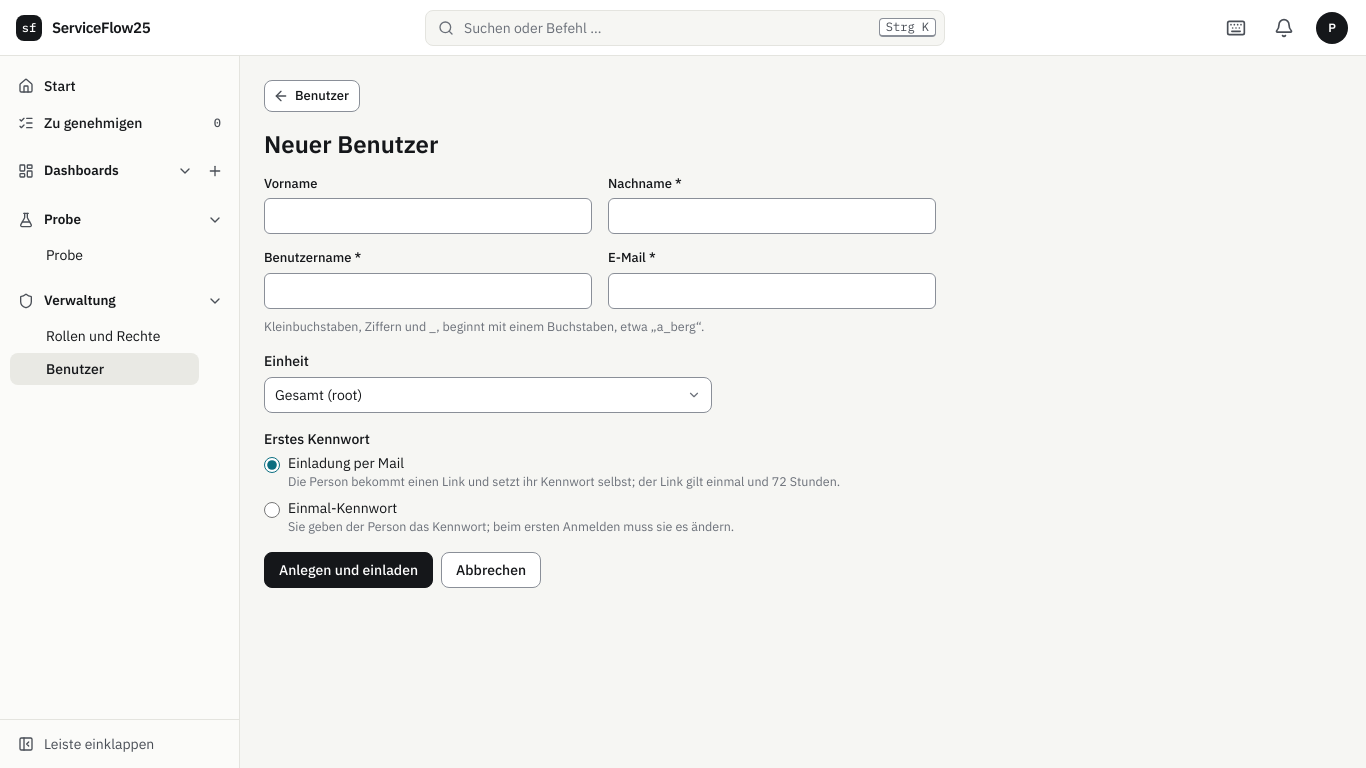
Test: UsersPage › keeps the account when the mail server refuses the invitation and says so
Expected: the heading "Neuer Benutzer" is shown, [264,128,438,160]
Type "Abgewiesen" into the field labelled "Nachname *" at [772, 216], box [608,198,936,234]
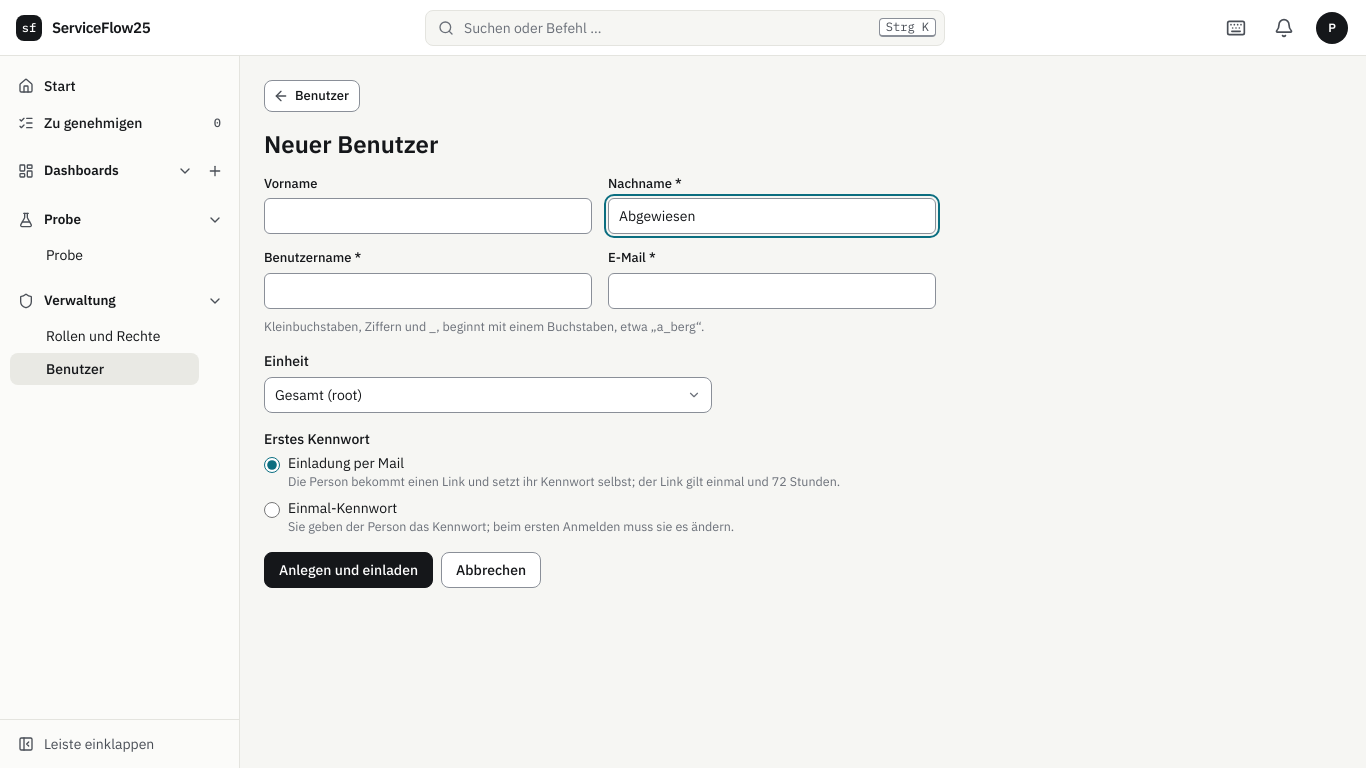
Type "r_mail" into the field labelled "Benutzername *" at [428, 290], box [264,272,592,308]
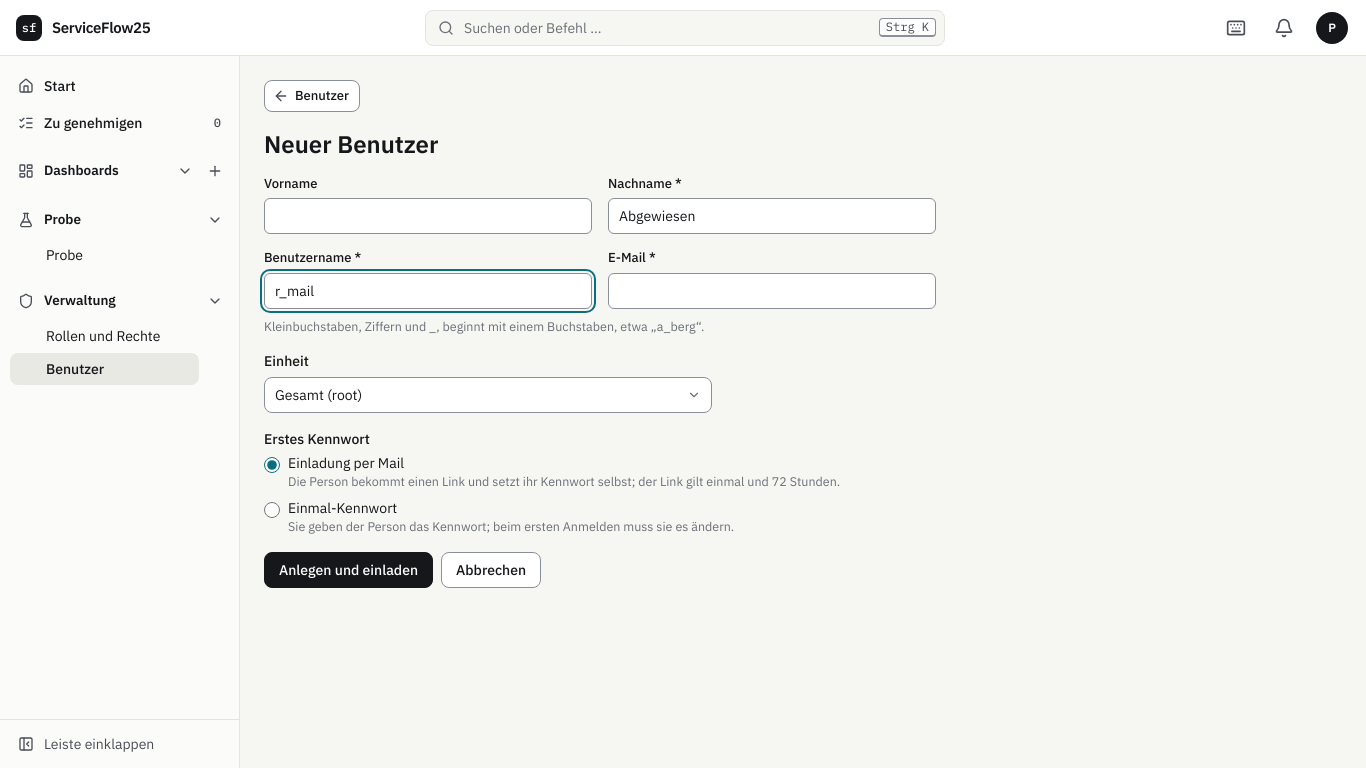
Type "r@example.test" into the field labelled "E-Mail *" at [772, 290], box [608,272,936,308]
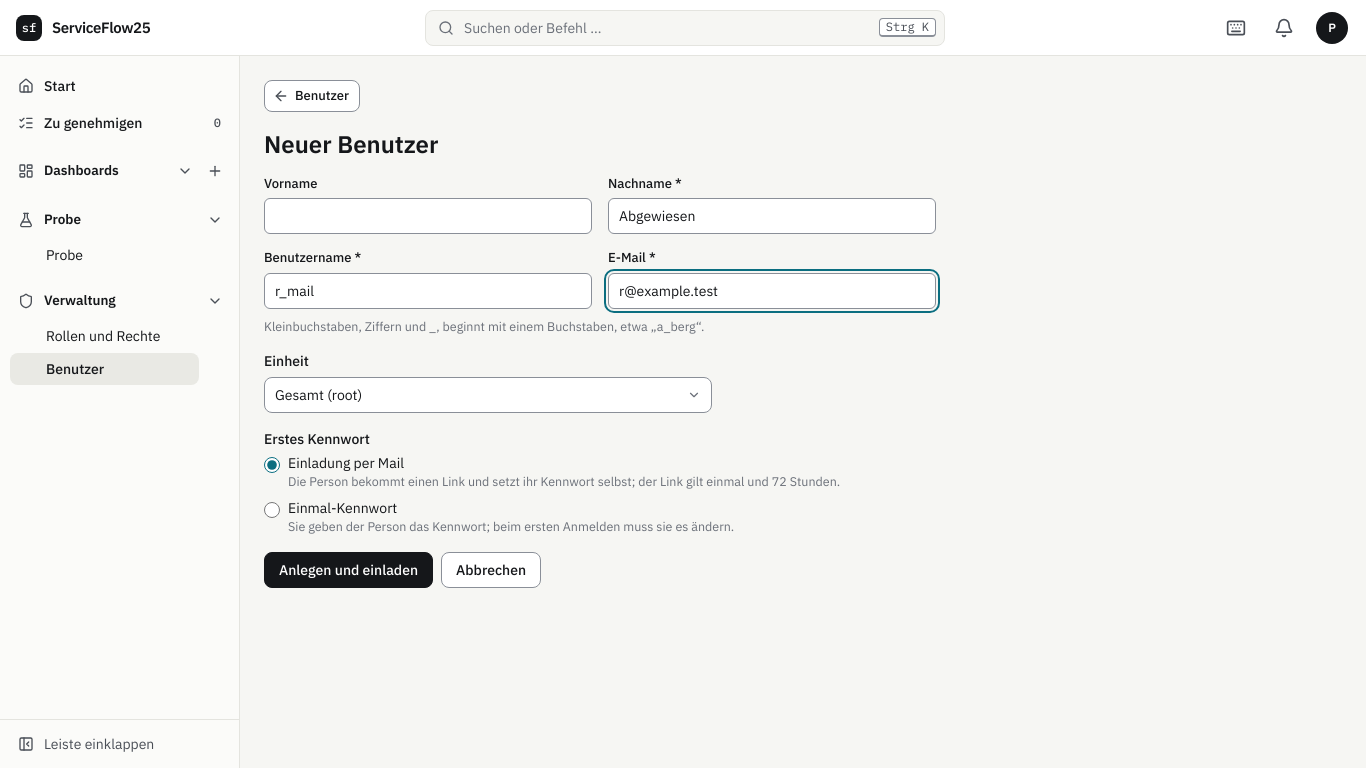
Click the button "Anlegen und einladen" at [349, 570], box [264,552,433,588]
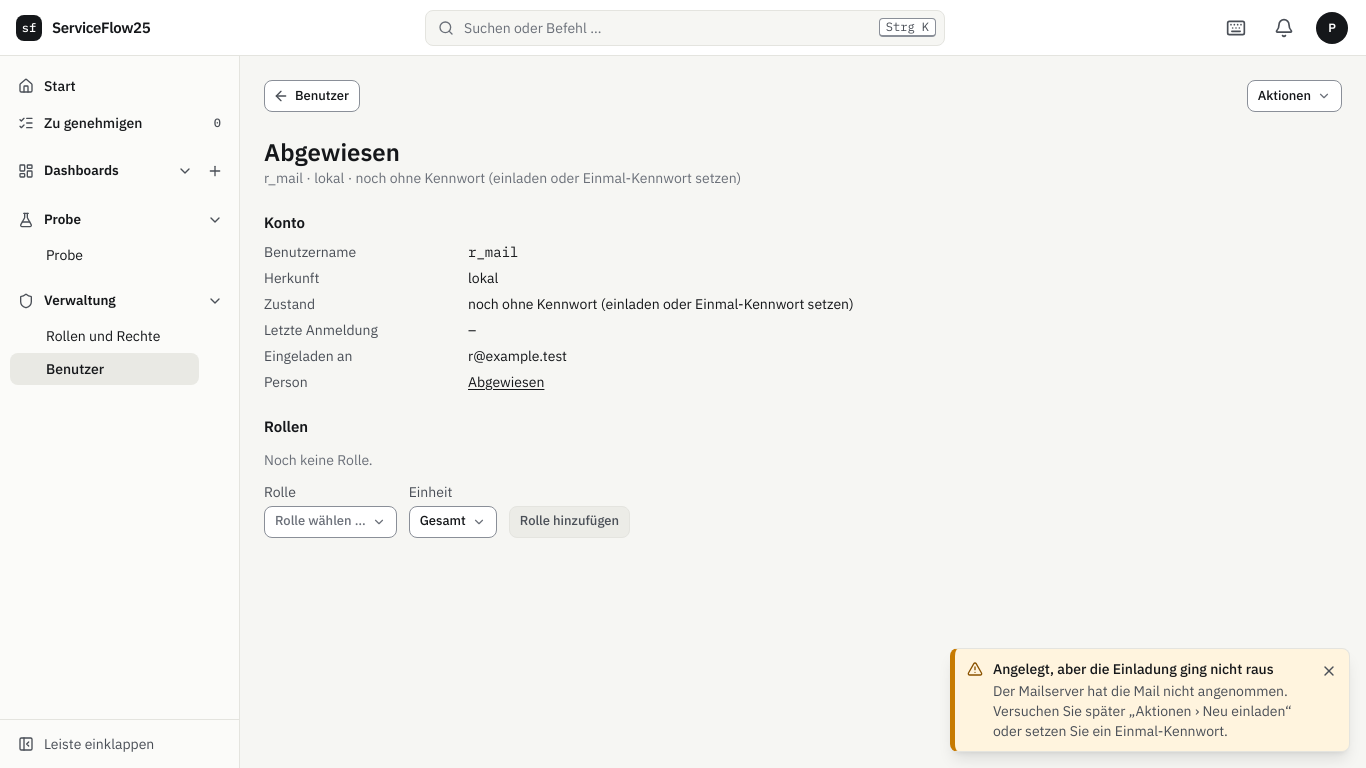
Expected: the text "Angelegt, aber die Einladung ging nicht raus" is shown, [993,659,1307,679]
Expected: the text "noch ohne Kennwort" is shown, [356,169,741,187]
